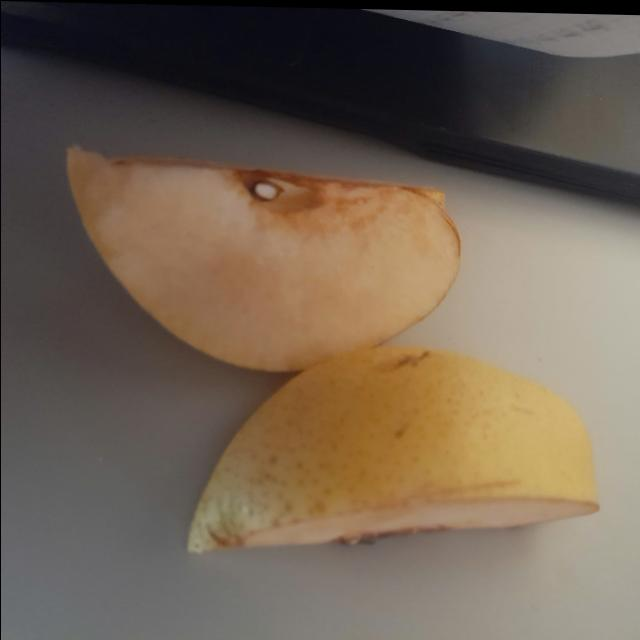Le: (59, 130, 476, 382), (182, 336, 605, 566)
